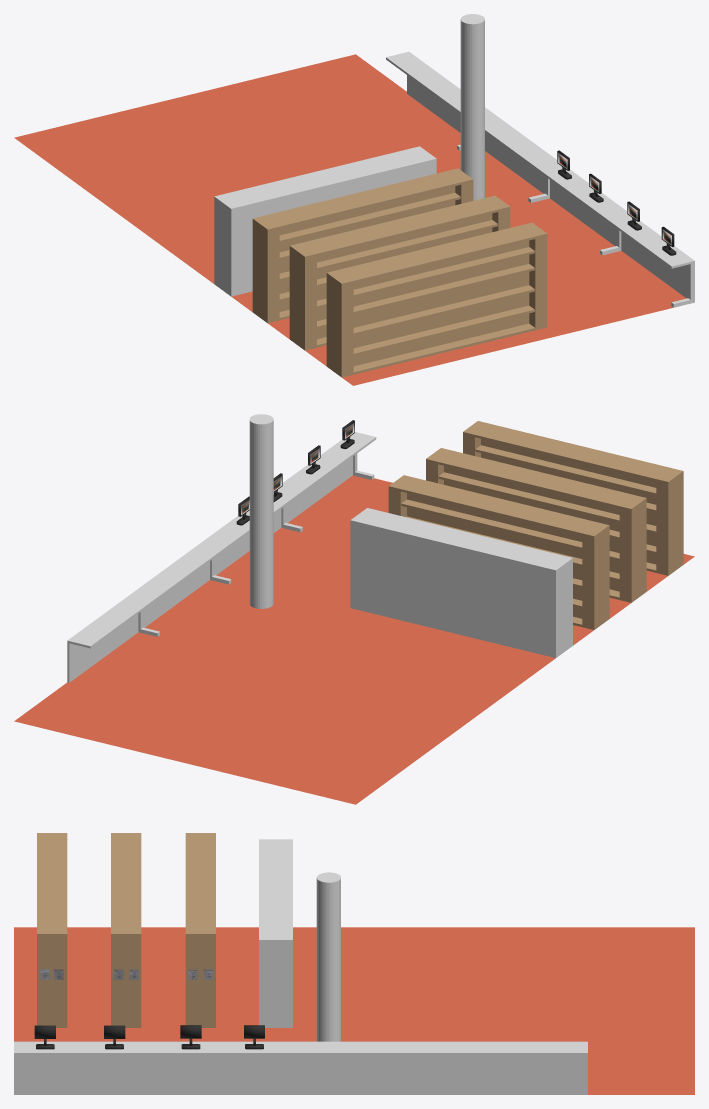
The model's file is library.dae.
The picture shows the model from 3 angles, top to bottom: view 1: azimuth 30°, elevation 25°; view 2: azimuth 150°, elevation 25°; view 3: azimuth 270°, elevation 25°; orthographic projection.
Parts seen in each view (by area): view 1: Floor, Bookshelf.002, Bookshelf.003, Bookshelf.001, Placeholder, Tavolo.001, Tavolo.002, Column; view 2: Floor, Placeholder, Bookshelf.003, Bookshelf.001, Bookshelf.002, Tavolo.002, Tavolo.001, Column; view 3: Floor, Tavolo.002, Tavolo.001, Placeholder, Bookshelf.001, Bookshelf.003, Bookshelf.002, Column, Monitor2.001, Monitor1.001, Monitor1, Monitor2.
Boxes of the visible parts, bbox=[...] form: Floor: bbox=[14, 54, 686, 385]; Bookshelf.002: bbox=[326, 222, 547, 377]; Bookshelf.003: bbox=[252, 168, 473, 323]; Bookshelf.001: bbox=[289, 195, 510, 350]; Placeholder: bbox=[214, 146, 436, 296]; Tavolo.001: bbox=[528, 156, 694, 307]; Tavolo.002: bbox=[386, 51, 551, 202]; Column: bbox=[460, 14, 484, 200]; Floor: bbox=[14, 475, 694, 804]; Placeholder: bbox=[350, 508, 572, 657]; Bookshelf.003: bbox=[388, 475, 609, 629]; Bookshelf.001: bbox=[426, 448, 646, 602]; Bookshelf.002: bbox=[463, 421, 683, 575]; Tavolo.002: bbox=[67, 536, 233, 682]; Tavolo.001: bbox=[211, 432, 376, 575]; Column: bbox=[249, 414, 273, 608]; Floor: bbox=[14, 927, 694, 1094]; Tavolo.002: bbox=[301, 1041, 587, 1094]; Tavolo.001: bbox=[14, 1041, 300, 1094]; Placeholder: bbox=[259, 839, 292, 1027]; Bookshelf.001: bbox=[111, 833, 141, 1027]; Bookshelf.003: bbox=[185, 833, 215, 1027]; Bookshelf.002: bbox=[37, 833, 67, 1027]; Column: bbox=[316, 872, 340, 1041]; Monitor2.001: bbox=[180, 1025, 201, 1049]; Monitor1.001: bbox=[34, 1025, 55, 1049]; Monitor1: bbox=[104, 1025, 125, 1049]; Monitor2: bbox=[244, 1025, 264, 1049].
Size of the model in its own units: 8.15 by 14 by 4.2.
11 materials, 8 textured.
